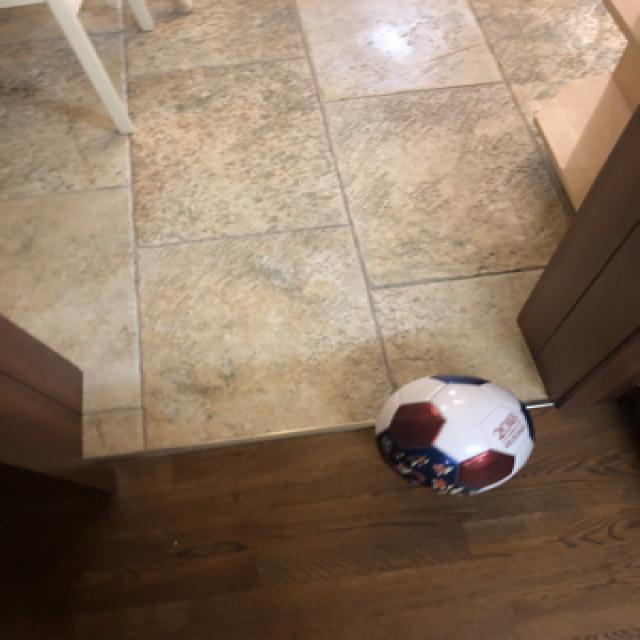soccer_ball: (369, 371, 533, 498)
